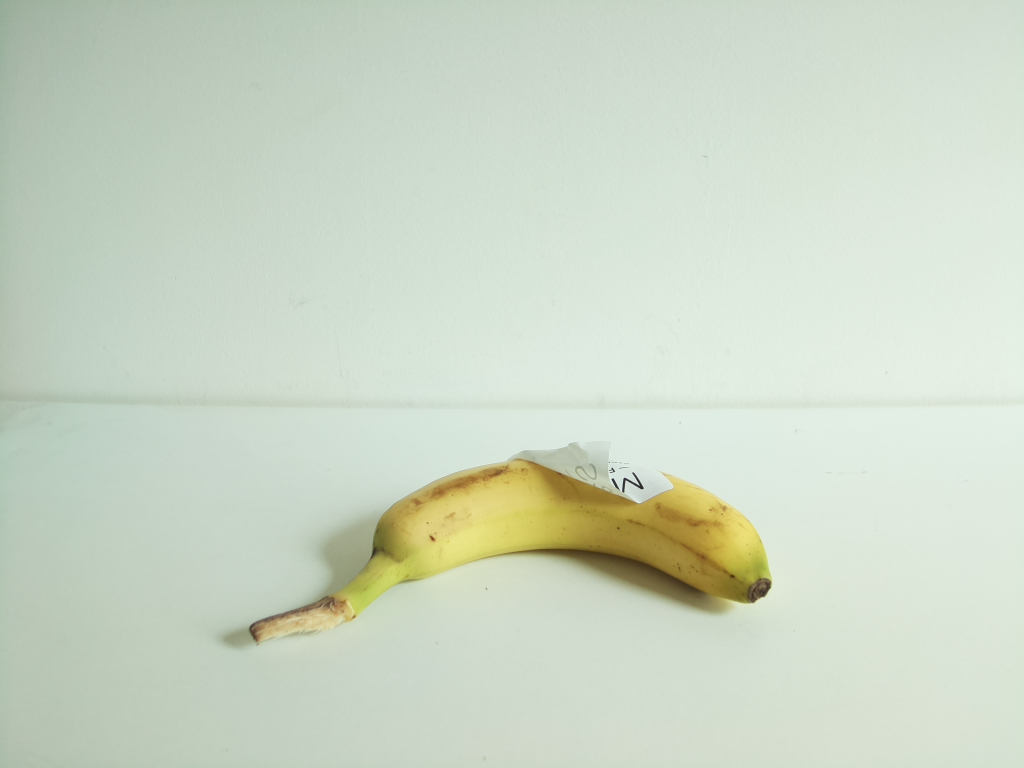banana: (247, 445, 768, 649)
